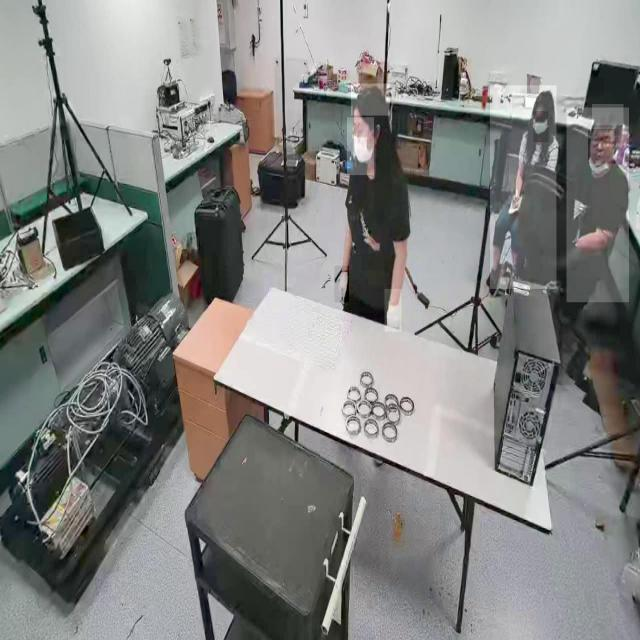gloves: (384, 288, 402, 332), (334, 266, 350, 304)
